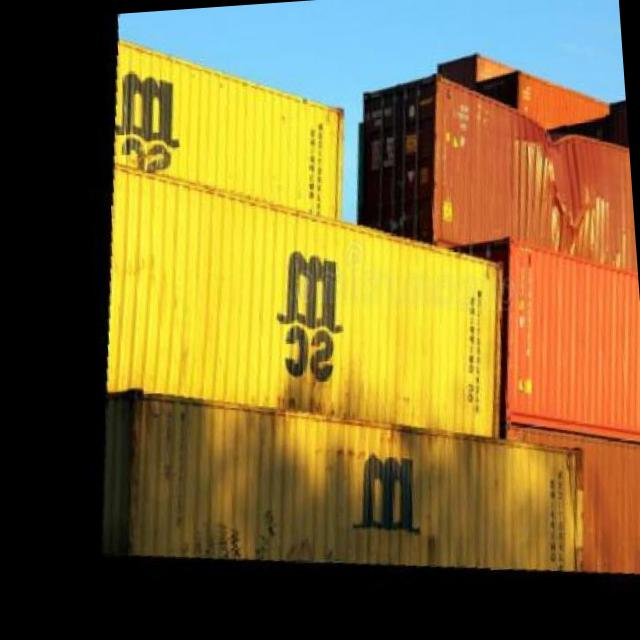Deframe_or_Dent: (508, 120, 598, 235)
